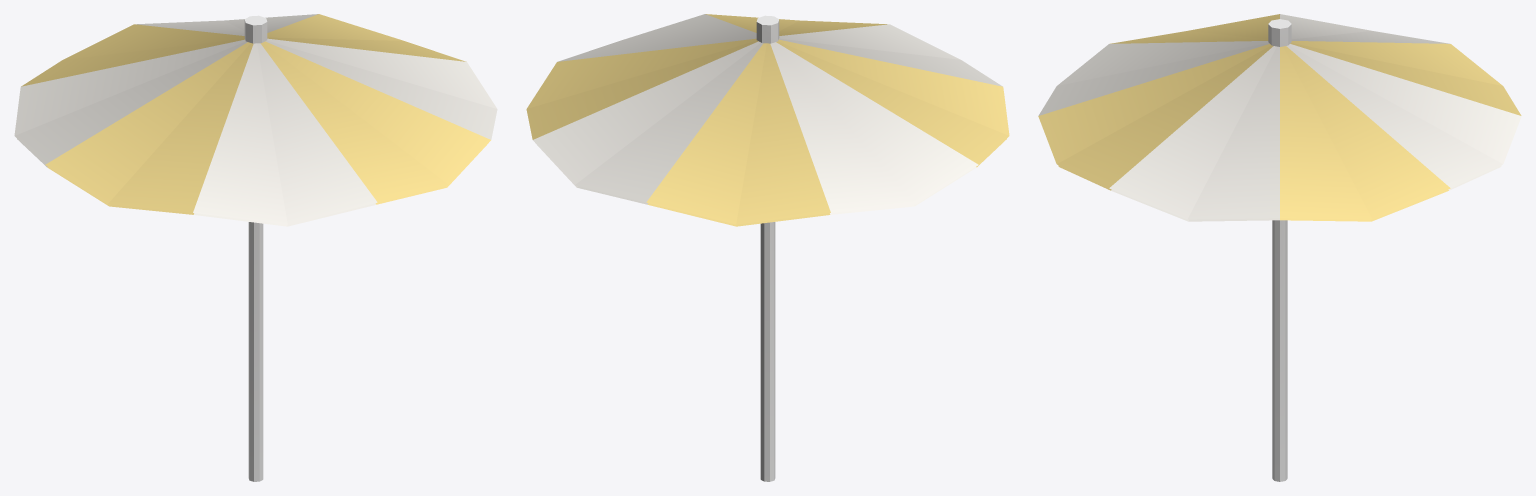
Rendered from VParasol_C.fbx.
3 views of the same model, side by side, from view 1: azimuth 30°, elevation 25°; view 2: azimuth 150°, elevation 25°; view 3: azimuth 270°, elevation 25° (orthographic).
Parts seen in each view (by area): view 1: VParasol_C; view 2: VParasol_C; view 3: VParasol_C.
Part boxes in pixels (<box>): VParasol_C: <box>14,14,497,481</box>; VParasol_C: <box>526,14,1009,481</box>; VParasol_C: <box>1038,14,1521,481</box>.
Size of the model in its own units: 2.9 by 3.01 by 2.9.
